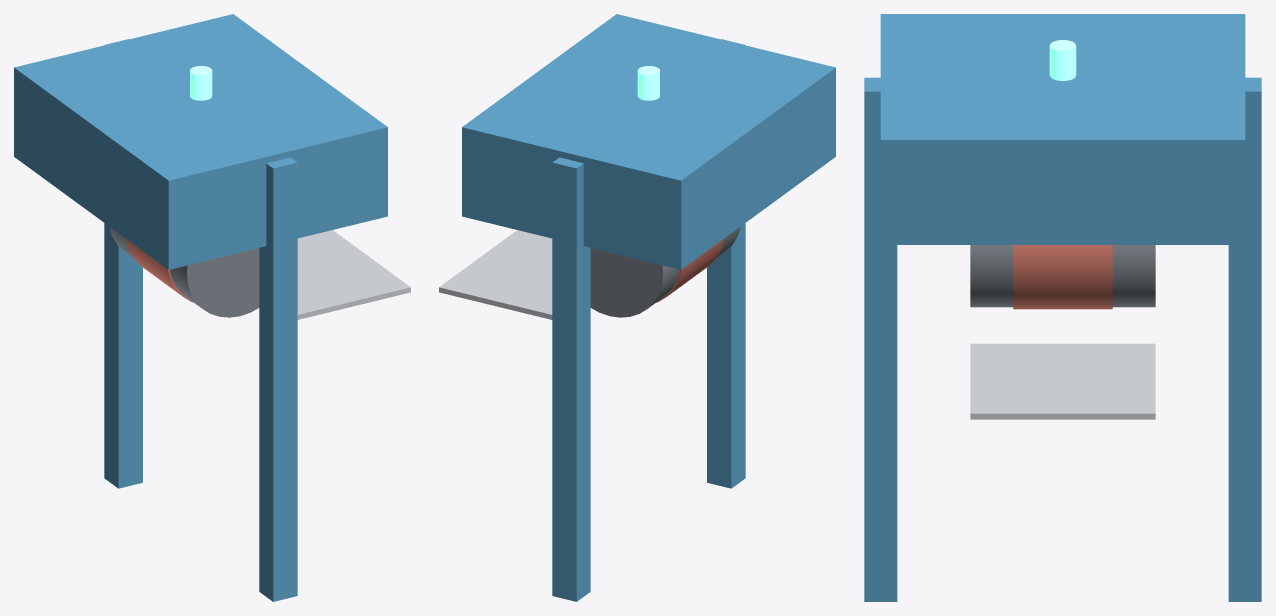
The model's file is separador_aluminio.glb.
The picture shows the model from 3 angles, left to right: view 1: azimuth 30°, elevation 25°; view 2: azimuth 150°, elevation 25°; view 3: azimuth 270°, elevation 25°; orthographic projection. The views are drawn at different scales.
Parts seen in each view (by area): view 1: carcasa, poste_der, poste_izq, divisor, tambor_magnetico, aspas_tambor, luz_estado; view 2: carcasa, poste_izq, poste_der, divisor, tambor_magnetico, aspas_tambor, luz_estado; view 3: carcasa, poste_izq, poste_der, divisor, aspas_tambor, tambor_magnetico, luz_estado.
Part boxes in pixels (bbox=[...]): carcasa: bbox=[14, 14, 387, 269]; poste_der: bbox=[259, 157, 297, 601]; poste_izq: bbox=[104, 39, 142, 488]; divisor: bbox=[297, 230, 410, 319]; tambor_magnetico: bbox=[109, 226, 259, 317]; aspas_tambor: bbox=[126, 239, 193, 302]; luz_estado: bbox=[190, 66, 212, 100]; carcasa: bbox=[462, 14, 835, 269]; poste_izq: bbox=[552, 157, 590, 601]; poste_der: bbox=[707, 39, 745, 488]; divisor: bbox=[439, 230, 552, 319]; tambor_magnetico: bbox=[590, 226, 740, 317]; aspas_tambor: bbox=[656, 239, 723, 302]; luz_estado: bbox=[637, 66, 659, 100]; carcasa: bbox=[880, 14, 1245, 244]; poste_izq: bbox=[1228, 77, 1261, 601]; poste_der: bbox=[864, 77, 897, 601]; divisor: bbox=[970, 343, 1155, 419]; aspas_tambor: bbox=[1013, 245, 1112, 309]; tambor_magnetico: bbox=[970, 245, 1155, 307]; luz_estado: bbox=[1049, 40, 1076, 80].
Bounding box in the file's own units: 1.15 × 1.83 × 1.2.
